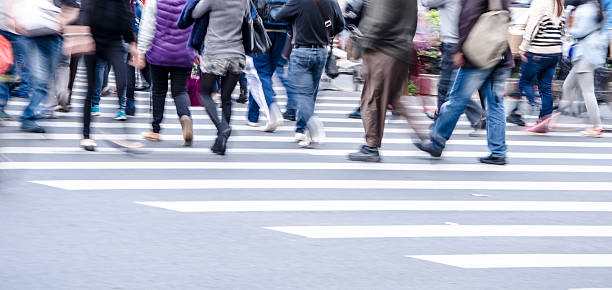pedestrian: (412, 1, 521, 168), (338, 1, 445, 164), (266, 1, 341, 153), (136, 1, 201, 144), (187, 1, 244, 157)
